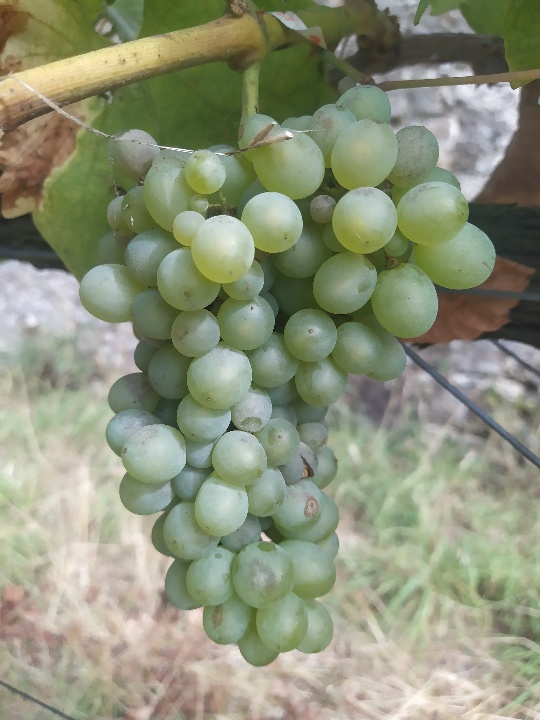grape: (73, 83, 498, 672)
